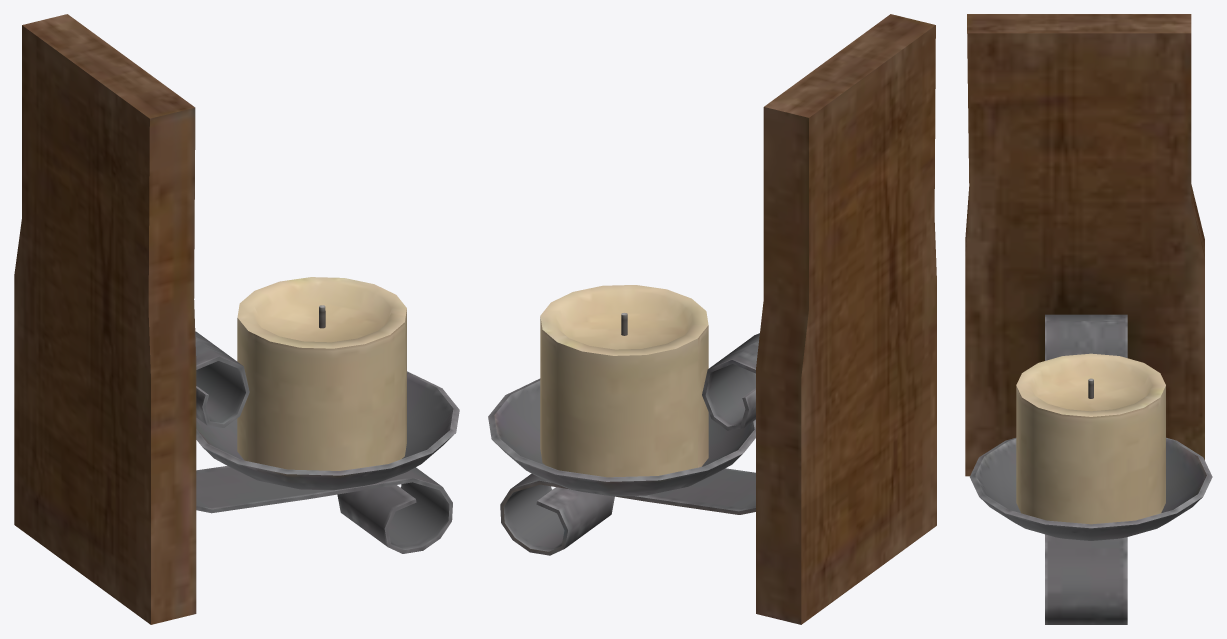
File: arandela.glb
3 views of the same model, side by side, from view 1: azimuth 30°, elevation 25°; view 2: azimuth 150°, elevation 25°; view 3: azimuth 270°, elevation 25° (orthographic). The views are drawn at different scales.
Visible parts, largest first — view 1: Metal_low; view 2: Metal_low; view 3: Metal_low.
Boxes of the visible parts, box(x1,y1,x2,y2) form: Metal_low: box(14, 14, 459, 624); Metal_low: box(488, 14, 936, 624); Metal_low: box(965, 14, 1212, 624).
Size of the model in its own units: 0.1095 by 0.1561 by 0.0737.
1 material, 1 textured.
